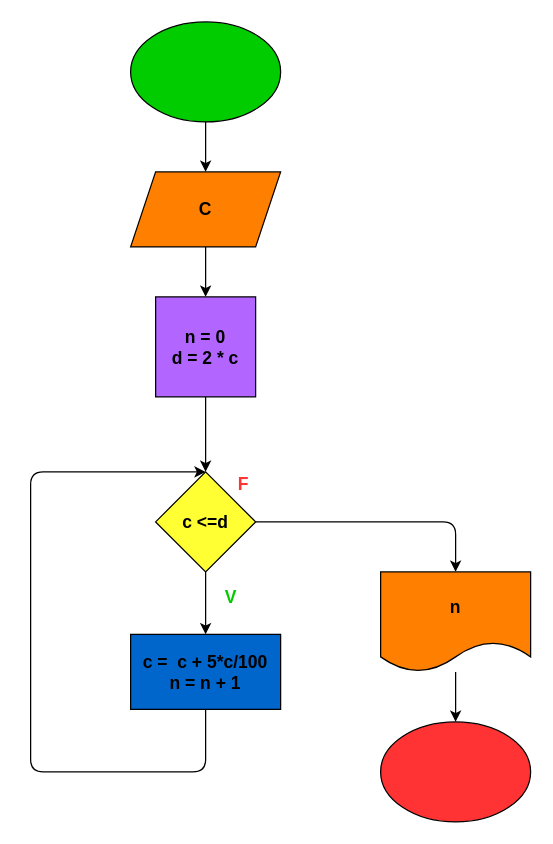
Image size: 553x844. Some labels were removed from this diagram. Here are the shapes that lost their labels. From the top down, the centre of each, then its label:
the point at 205,71: INICIO
the point at 455,771: FIN
